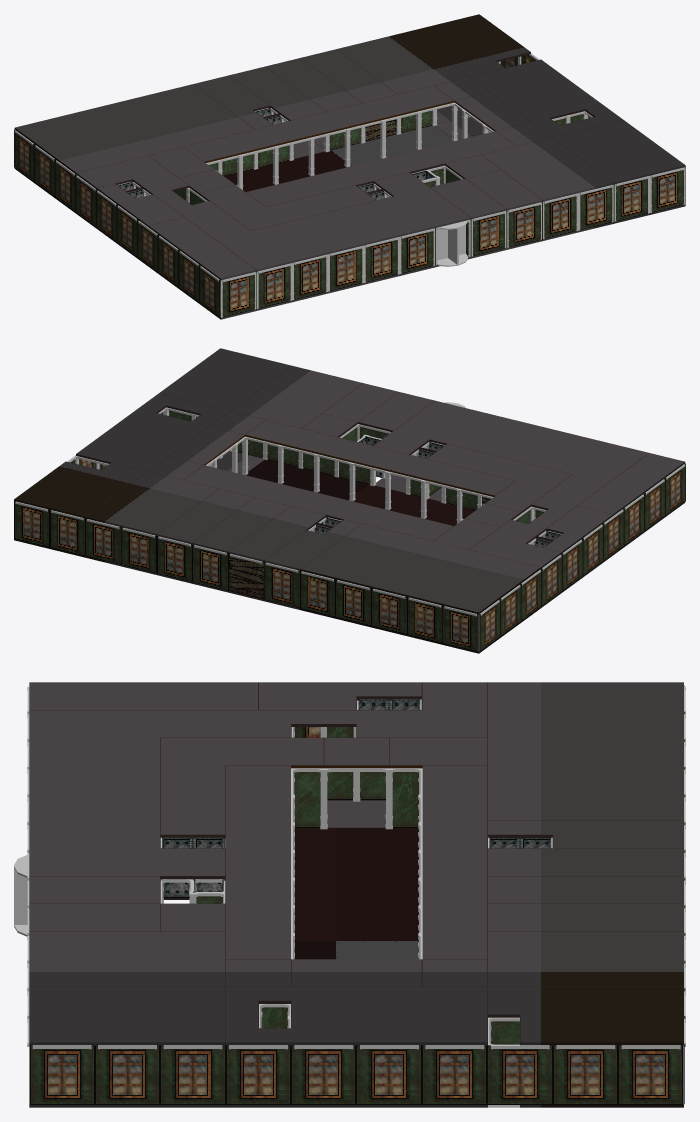
File: Lobby.fbx
The picture shows the model from 3 angles, top to bottom: view 1: azimuth 30°, elevation 25°; view 2: azimuth 150°, elevation 25°; view 3: azimuth 270°, elevation 25°; orthographic projection. The views are drawn at different scales.
Visible parts, largest first — view 1: Lobby Ceiling, Wall.048, Wall.044, Wall.045, Lobby Floor, Wall.033, Rotating Door, Wall.027; view 2: Lobby Ceiling, Wall.047, Wall.048, Lobby Floor, Wall.013, Wall.014; view 3: Lobby Ceiling, Wall.046, Lobby Floor, Wall.026, Wall.039, Wall.040, Wall.005, Rotating Door, Elevator Shaft.003.
Part boxes in pixels (<box>): Lobby Ceiling: <box>14,14,685,280</box>; Wall.048: <box>14,129,220,317</box>; Wall.044: <box>222,231,433,317</box>; Wall.045: <box>473,170,683,255</box>; Lobby Floor: <box>14,105,685,319</box>; Wall.033: <box>329,110,432,150</box>; Rotating Door: <box>437,221,468,266</box>; Wall.027: <box>209,145,289,176</box>; Lobby Ceiling: <box>14,348,685,614</box>; Wall.047: <box>14,501,478,651</box>; Wall.048: <box>479,463,685,651</box>; Lobby Floor: <box>14,451,685,653</box>; Wall.013: <box>267,444,370,484</box>; Wall.014: <box>446,488,490,510</box>; Lobby Ceiling: <box>29,682,683,1045</box>; Wall.046: <box>29,1045,683,1104</box>; Lobby Floor: <box>29,800,683,1107</box>; Wall.026: <box>327,772,385,800</box>; Wall.039: <box>392,772,418,827</box>; Wall.040: <box>294,772,320,827</box>; Wall.005: <box>261,1007,519,1044</box>; Rotating Door: <box>14,855,27,936</box>; Elevator Shaft.003: <box>162,838,192,897</box>.
Size of the model in its own units: 65.34 by 51.33 by 5.49.
